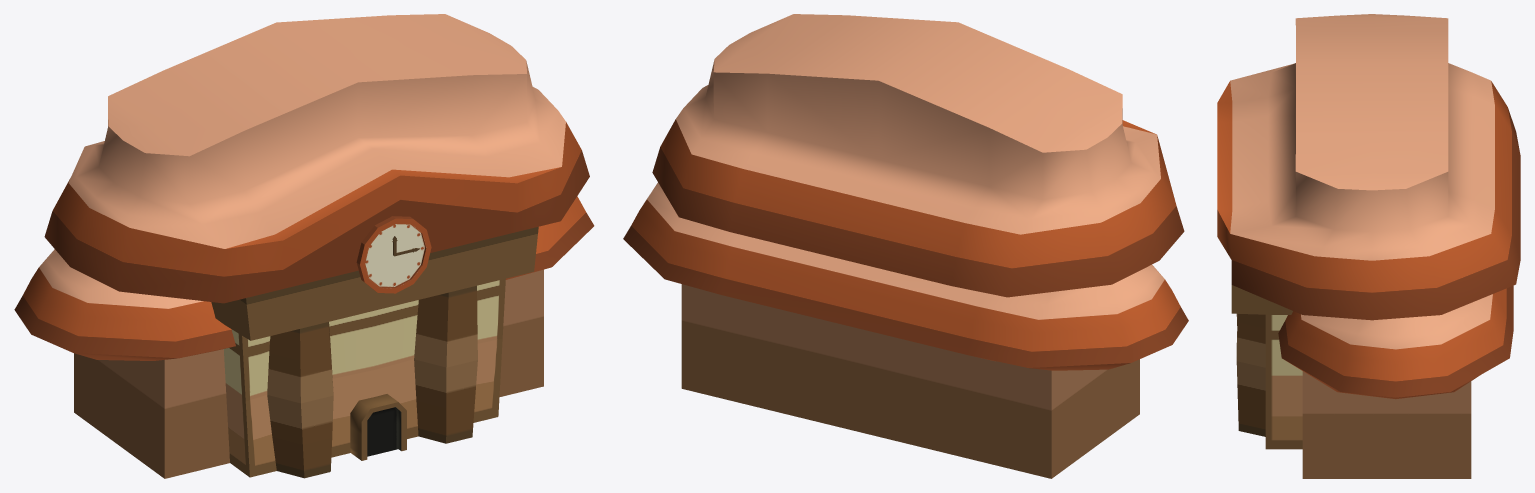
File: town_hall.fbx
The picture shows the model from 3 angles, left to right: view 1: azimuth 30°, elevation 25°; view 2: azimuth 150°, elevation 25°; view 3: azimuth 270°, elevation 25°; orthographic projection. The views are drawn at different scales.
Visible parts, largest first — view 1: polySurface183, polySurface181, polySurface182, polySurface184, polySurface187; view 2: polySurface183, polySurface181, polySurface182; view 3: polySurface183, polySurface181, polySurface182.
Part boxes in pixels (<box>): polySurface183: <box>44,14,589,303</box>; polySurface181: <box>74,226,543,478</box>; polySurface182: <box>14,196,594,360</box>; polySurface184: <box>356,216,431,293</box>; polySurface187: <box>350,394,406,460</box>; polySurface183: <box>652,14,1184,297</box>; polySurface181: <box>681,284,1139,478</box>; polySurface182: <box>623,182,1188,370</box>; polySurface183: <box>1217,14,1520,320</box>; polySurface181: <box>1231,285,1471,478</box>; polySurface182: <box>1278,285,1513,399</box>.
Size of the model in its own units: 21.4 by 13.2 by 11.05.
